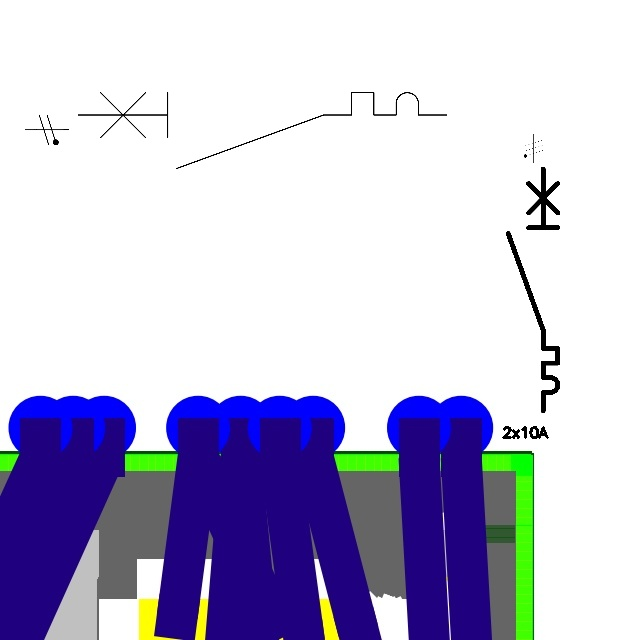interruptor_termomagnetico: (68, 83, 456, 178), (502, 162, 564, 416)
